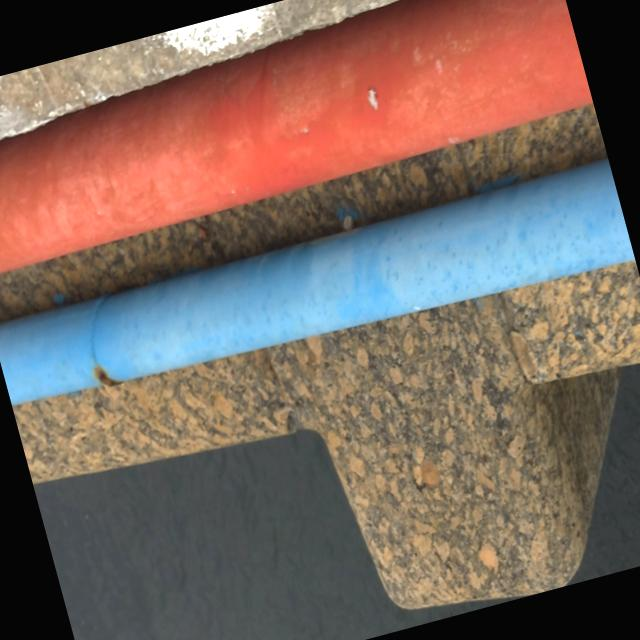gas: (0, 151, 636, 405), (0, 0, 593, 270)
